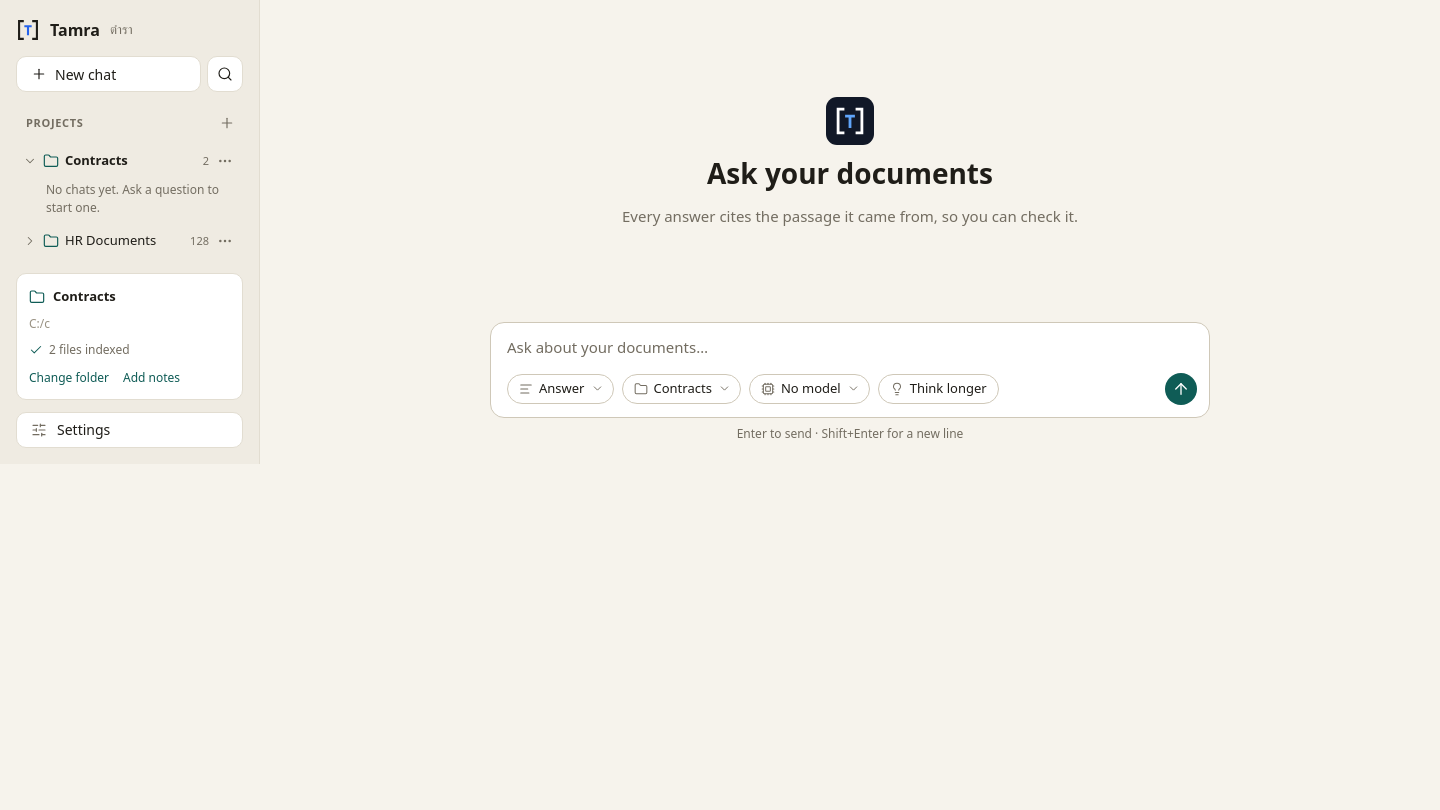
Test: The project menu › words the confirmation for one chat and for none
Click the button named "Options for project HR Documents": (225, 241) [211,227,239,255]
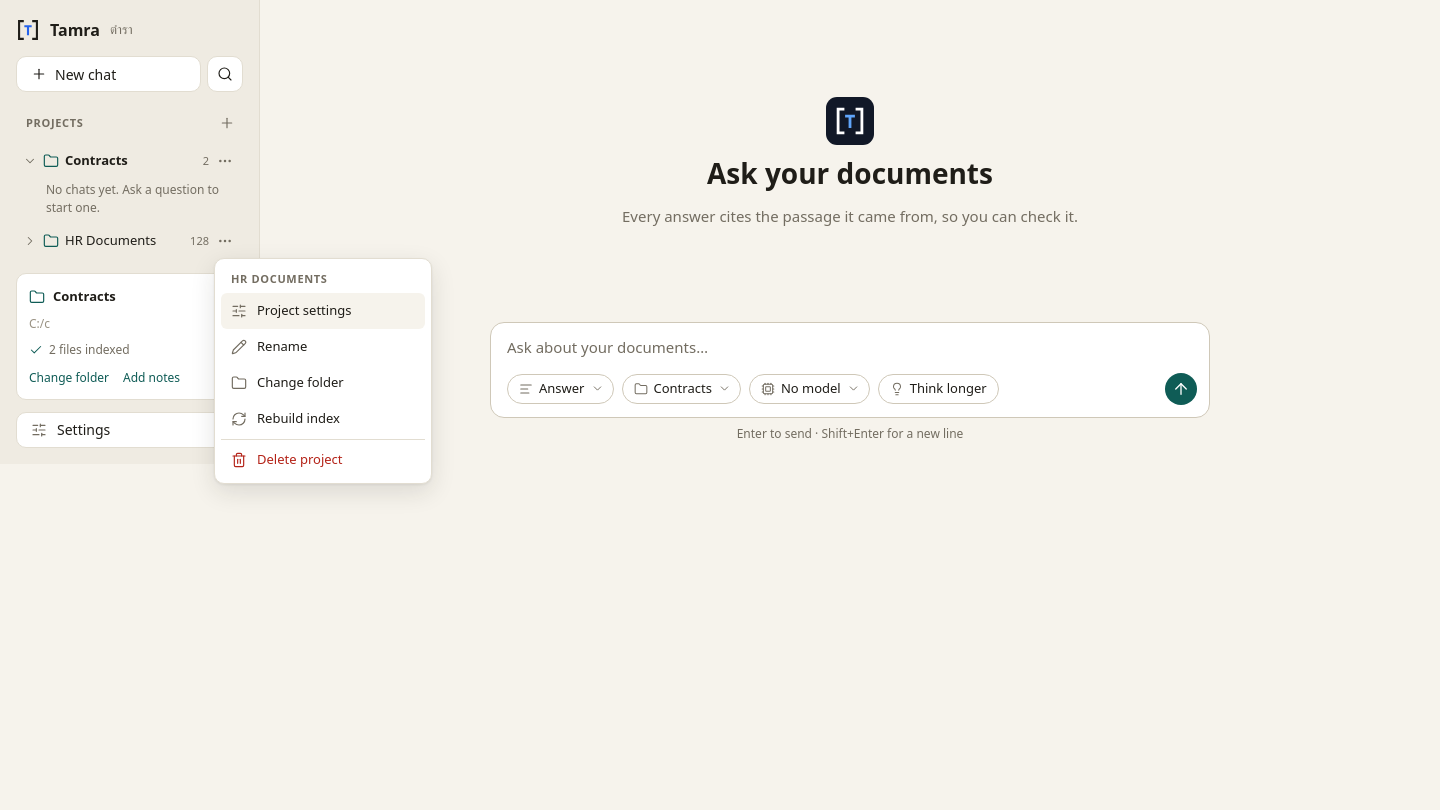
Click the menu item "Delete project": (323, 460) [221,442,425,478]
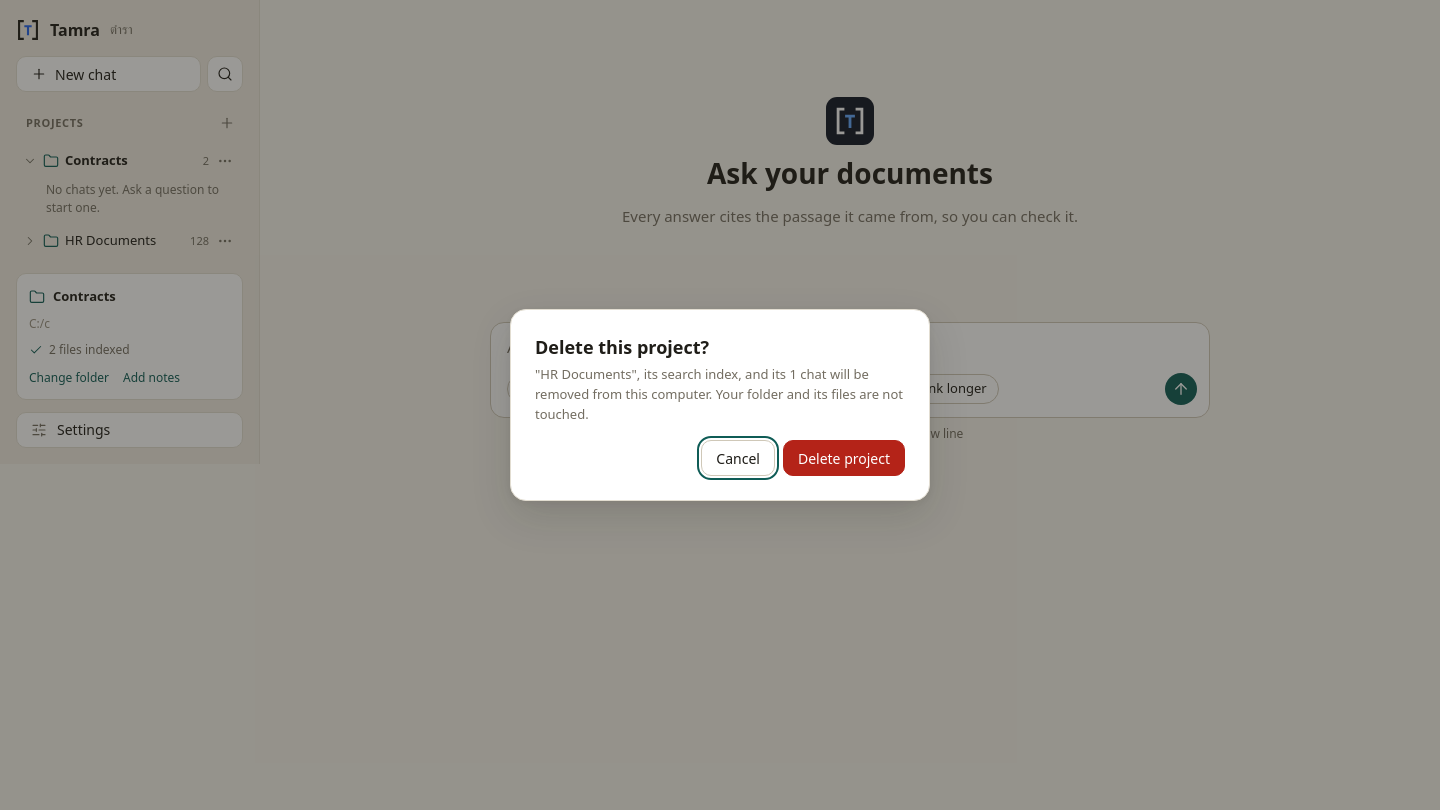
Now the dialog shows "its search index, and its 1 chat will be removed", box [535,365,903,423]
Click the button "Cancel": (738, 458) [701,440,775,476]
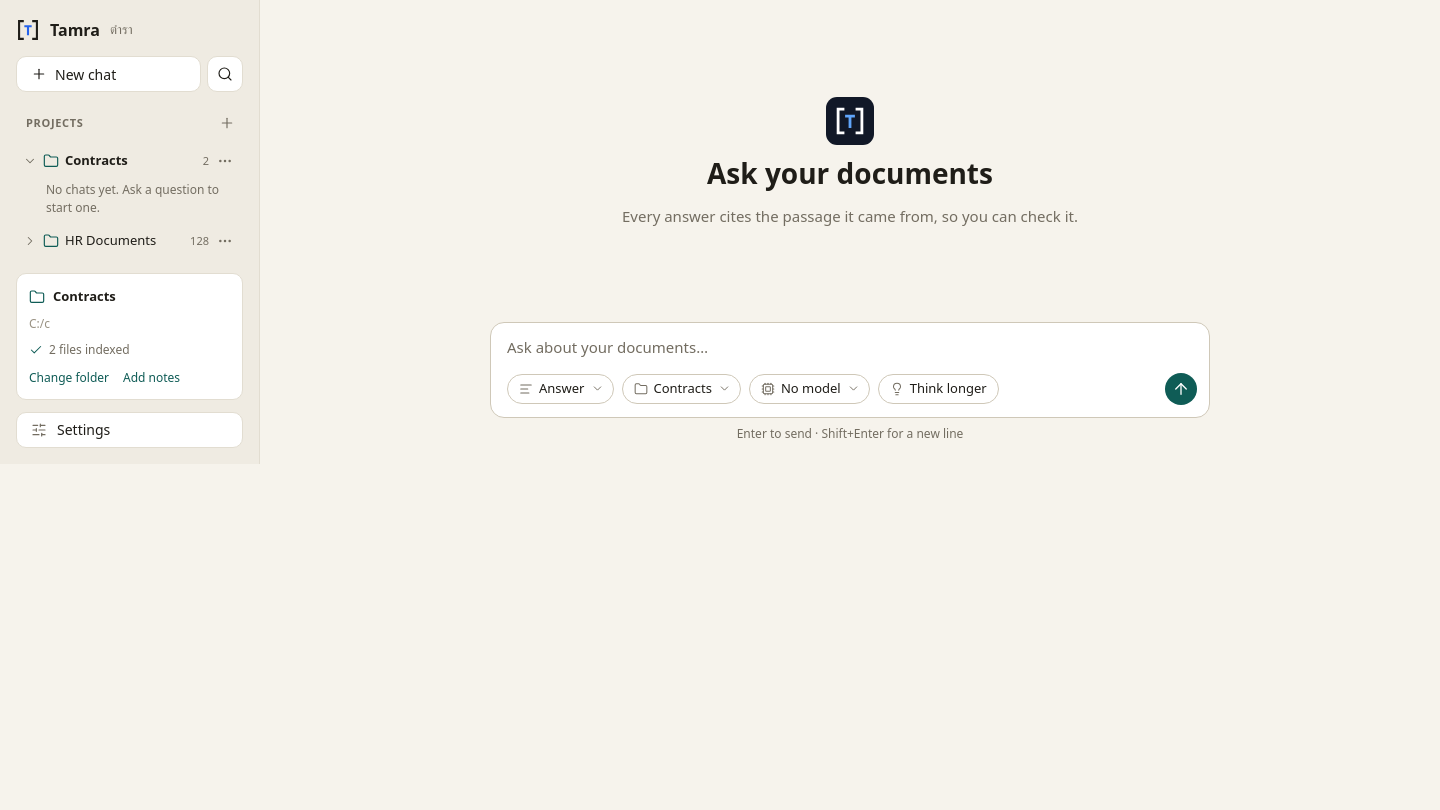
Click the button named "Options for project Contracts": (225, 161) [211,147,239,175]
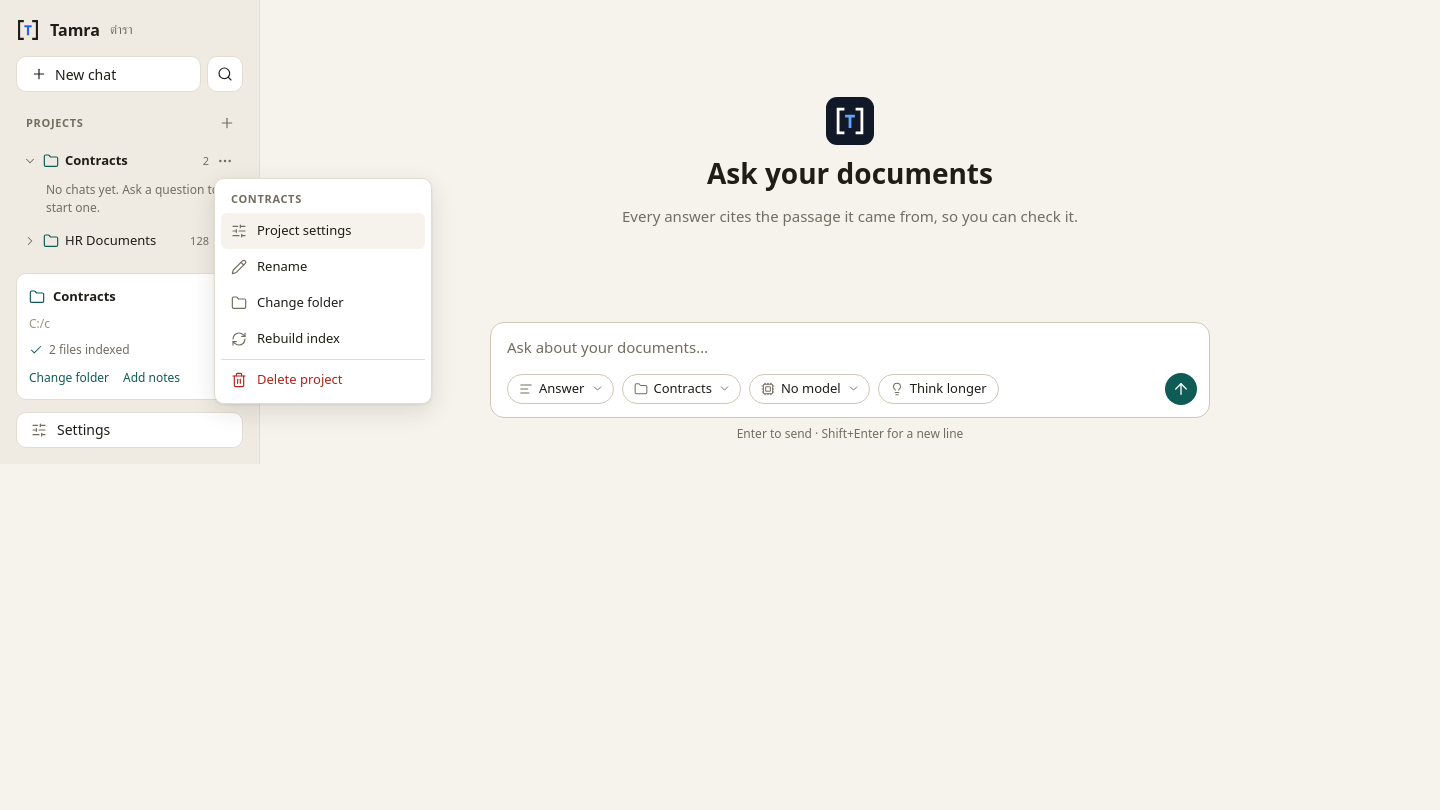
Click the menu item "Delete project": (323, 380) [221,362,425,398]
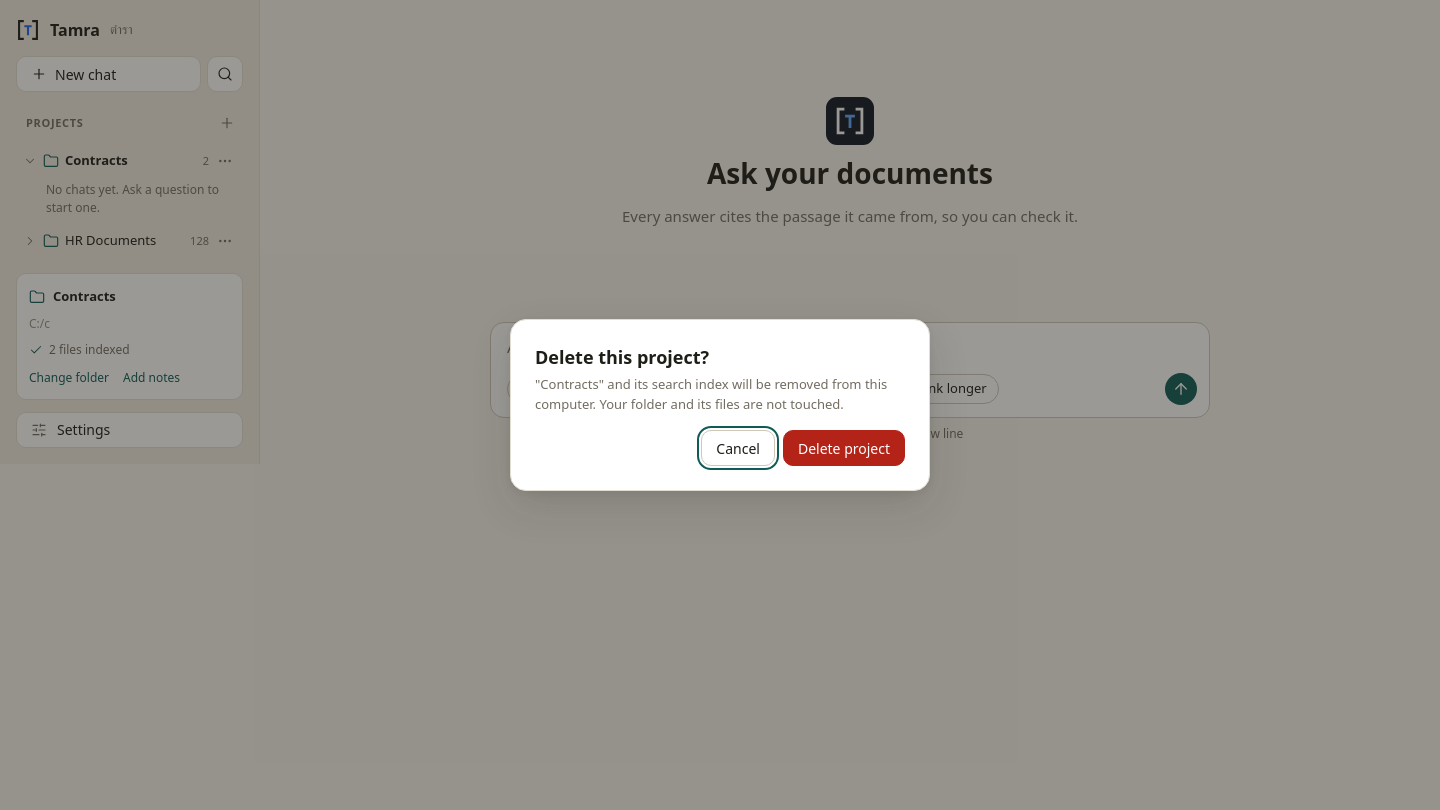
Expected: the text "chat" is not shown
Now the dialog shows "\"Contracts\" and its search index will be removed from this computer.", box [535,375,887,413]
